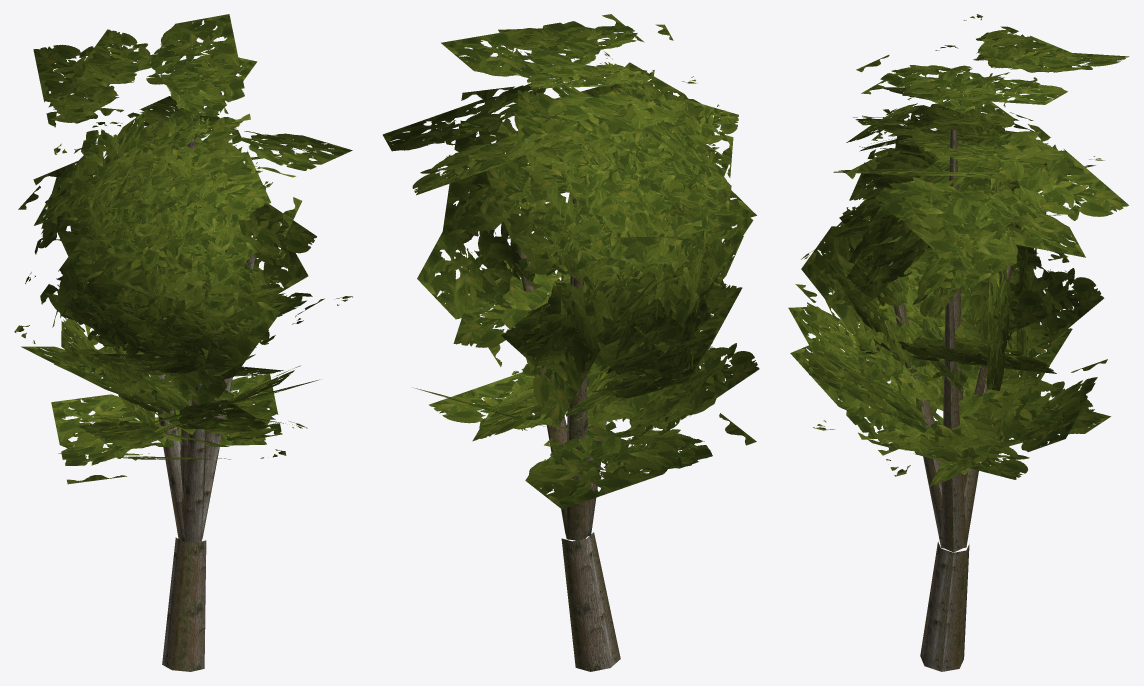
The model's file is tree_poplar.glb.
The picture shows the model from 3 angles, left to right: view 1: azimuth 30°, elevation 25°; view 2: azimuth 150°, elevation 25°; view 3: azimuth 270°, elevation 25°; orthographic projection. The views are drawn at different scales.
Parts seen in each view (by area): view 1: tree_poplar_foliage, tree_poplar_body; view 2: tree_poplar_foliage, tree_poplar_body; view 3: tree_poplar_foliage, tree_poplar_body.
Boxes of the visible parts, box(x1,y1,x2,y2) form: tree_poplar_foliage: box(14, 14, 352, 484); tree_poplar_body: box(150, 138, 255, 671); tree_poplar_foliage: box(382, 14, 759, 509); tree_poplar_body: box(517, 198, 620, 671); tree_poplar_foliage: box(788, 14, 1129, 486); tree_poplar_body: box(888, 129, 1012, 671).
Bounding box in the file's own units: 0.2327 × 0.4094 × 0.2091.
2 materials, 2 textured.
